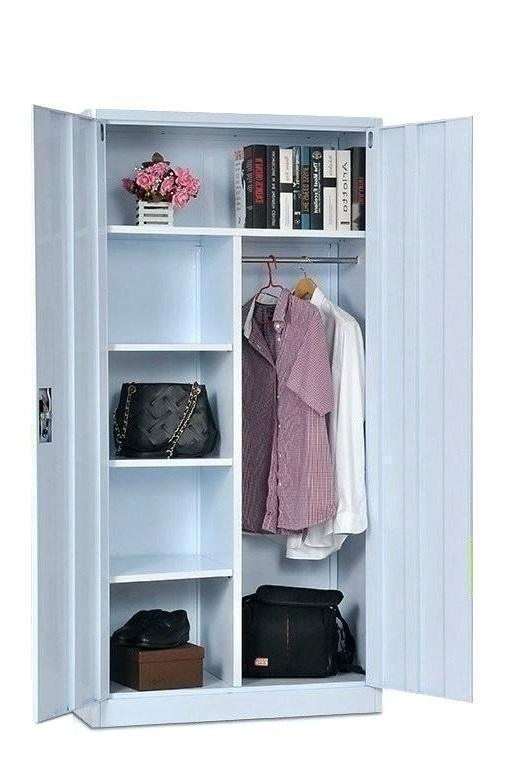Armario: (19, 99, 481, 727)
